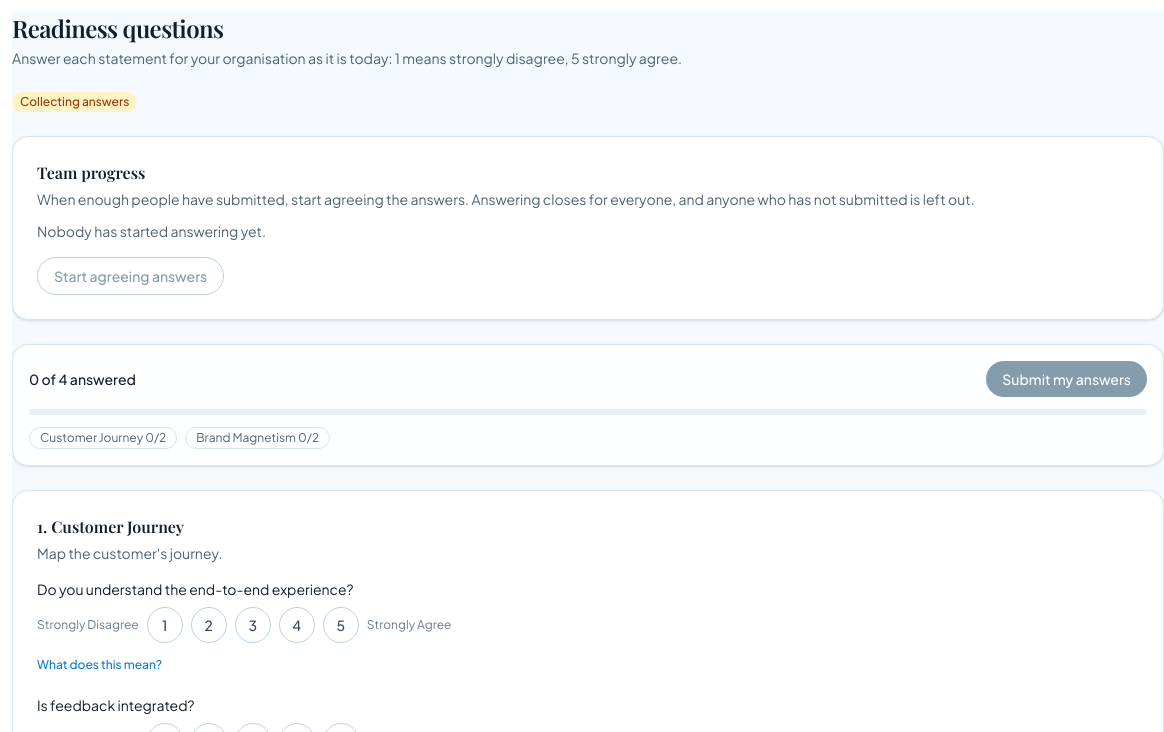
Test: QuestionnairePage › undoes an answer whose save failed, so it is neither shown nor counted
Step 1. Click the 1st radio button labelled "4" → click(297, 625), box [279,607,315,643]
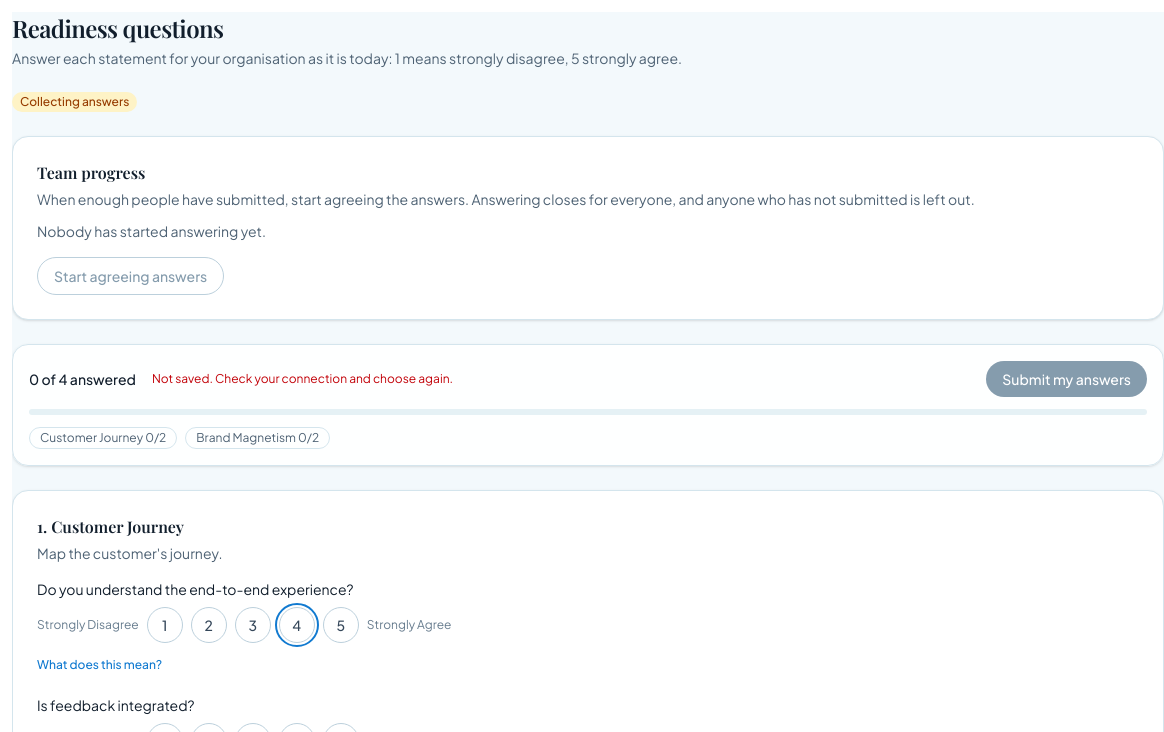
Expected: the text "0 of 4 answered" is shown, [29,369,136,389]
Now the text "Not saved. Check your connection and choose again." is shown, box [152,371,453,387]
